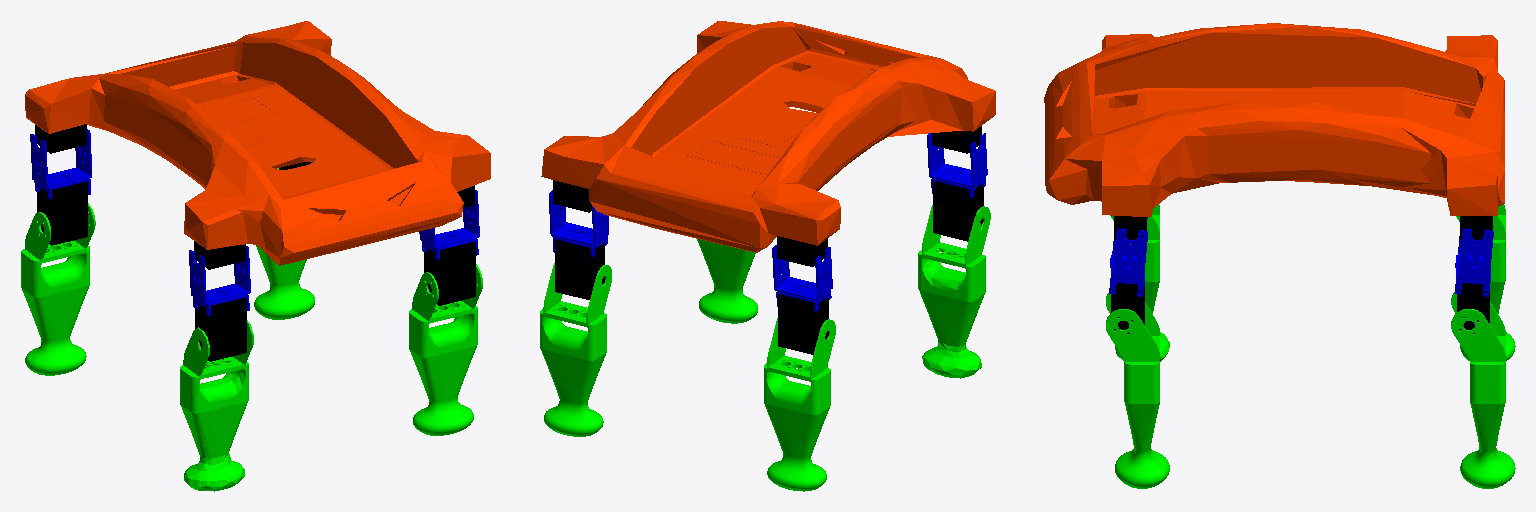
URDF robot description (midnight):
<robot name = "midnight">

	<link name = "torso">
		<inertial>
			<origin xyz = "0 0 0" rpy = "0 0 0"/>
			<mass value = "0.7"/>
			<inertia ixx = "0" ixy = "0" ixz = "0" iyy = "0" iyz = "0" izz = "0" />
		</inertial>
		
		<visual>
			<geometry>
				<mesh filename="Torso_meshed.stl" scale="0.005 0.005 0.005"/>
			</geometry>
			<material name = "orange">
				<color rgba = "1 0.3 0 1"/>
			</material>
		</visual>
		
		<collision>
			<origin xyz = "0.4 1 0" rpy = "0 0 0"/>
			<geometry>
				<box size = "1.25 1.6 0.38"/> 
			</geometry>
		</collision>
		
	</link>
	
	<link name = "motor_1">
	
		<inertial>
			<origin xyz = "0 0 0" rpy = "0 0 0"/>
			<mass value = "0.3"/>
			<inertia ixx = "189.354" ixy = "0" ixz = "0" iyy = "189.354" iyz = "0" izz = "368.205" />
		</inertial>
		
		<visual>
			<geometry>
				<box size = "0.16 0.115 0.225"/> #45mm x 32mm x 23mm
			</geometry>
			<material name = "black">
				<color rgba = "0 0 0 1"/>
			</material>
		</visual>
		
		<collision>
			<origin xyz = "0 0 0" rpy = "0 0 0"/>
			<geometry>
				<box size = "0.16 0.115 0.225"/>
			</geometry>
		</collision>
		
	</link>
	
	<link name = "upper_leg1">
		<inertial>
			<origin xyz = "0 0 0" rpy = "0 0 0"/>
			<mass value = "0.1"/>
			<inertia ixx = "0" ixy = "0" ixz = "0" iyy = "0" iyz = "0" izz = "0" />
		</inertial>

		<visual>
			<geometry>
				<mesh filename="Upper_Leg_mesh.stl" scale="0.005 0.005 0.005"/>  #51 mm x 40 mm
			</geometry>
			<material name = "blue">
				<color rgba = "0 0 1 1"/>
			</material>
		</visual>
		
		<collision>
			<origin xyz = "0 0 0" rpy = "0 0 0"/>
			<geometry>
				<cylinder radius = "0.2" length = "0.255"/> 
			</geometry>
		</collision>
		
	</link>
	
	<joint name = "joint11" type = "fixed">
		<parent link = "torso" />
		<child link = "motor_1" />
		<origin xyz = "-0.1 0.3 0" rpy = "0 0 0" />
	</joint>
	
	<link name = "motor1">
	
		<inertial>
			<origin xyz = "0 0 0" rpy = "0 0 0"/>
			<mass value = "0.3"/>
			<inertia ixx = "189.354" ixy = "0" ixz = "0" iyy = "189.354" iyz = "0" izz = "368.205" />
		</inertial>
		
		<visual>
			<geometry>
				<box size = "0.16 0.115 0.225"/> #45mm x 32mm x 23mm
			</geometry>
			<material name = "black">
				<color rgba = "0 0 0 1"/>
			</material>
		</visual>
		
		<collision>
			<origin xyz = "0 0 0" rpy = "0 0 0"/>
			<geometry>
				<box size = "0.16 0.115 0.225"/>
			</geometry>
		</collision>
		
	</link>
	
	<joint name = "joint12" type = "fixed">
		<parent link = "upper_leg1" />
		<child link = "motor1" />
		<origin xyz = "0 -0.06 -0.18" rpy = "0 0 0" />
	</joint>
	
	<link name = "lower_leg1">
		<inertial>
			<origin xyz = "0 0 0" rpy = "0 0 0"/>
			<mass value = "0.1"/>
			<inertia ixx = "0" ixy = "0" ixz = "0" iyy = "0" iyz = "0" izz = "0" />
		</inertial>

		<visual>
			<geometry>
				<mesh filename="Lower_Leg_mesh.stl" scale="0.005 0.005 0.005"/> #116 mm x 20 mm
			</geometry>
			<material name = "green">
				<color rgba = "0 1 0 1"/>
			</material>
		</visual>
		
		<collision>
			<origin xyz = "0 0 0" rpy = "0 0 0"/>
			<geometry>
				<cylinder radius = "0.1" length = "1"/> 
			</geometry>
		</collision>
	</link>
	
	<joint name = "joint13" type = "revolute">
		<parent link = "motor1" />
		<child link = "lower_leg1" />
		<limit upper = "1.6" lower = "-1.6"/>
		<origin xyz = "0 0.05 -0.2" rpy = "0 0 3.14" />
		<axis xyz = "1 0 0" />
	</joint>
	
	<joint name = "joint14" type = "revolute">
		<parent link = "motor_1" />
		<child link = "upper_leg1" />
		<limit upper = "1.6" lower = "-1.6"/>
		<origin xyz = "0 0.05 -0.2" rpy = "0 0 0" />
		<axis xyz = "1 0 0" />
	</joint>
	
	<link name = "motor_2">
	
		<inertial>
			<origin xyz = "0 0 0" rpy = "0 0 0"/>
			<mass value = "0.3"/>
			<inertia ixx = "189.354" ixy = "0" ixz = "0" iyy = "189.354" iyz = "0" izz = "368.205" />
		</inertial>
		
		<visual>
			<geometry>
				<box size = "0.16 0.115 0.225"/> #45mm x 32mm x 23mm
			</geometry>
			<material name = "black">
				<color rgba = "0 0 0 1"/>
			</material>
		</visual>
		
		<collision>
			<origin xyz = "0 0 0" rpy = "0 0 0"/>
			<geometry>
				<box size = "0.16 0.115 0.225"/>
			</geometry>
		</collision>
		
	</link>
	
	<link name = "upper_leg2">
		<inertial>
			<origin xyz = "0 0 0" rpy = "0 0 0"/>
			<mass value = "0.1"/>
			<inertia ixx = "0" ixy = "0" ixz = "0" iyy = "0" iyz = "0" izz = "0" />
		</inertial>

		<visual>
			<geometry>
				<mesh filename="Upper_Leg.stl" scale="0.005 0.005 0.005"/>
			</geometry>
			<material name = "blue">
				<color rgba = "0 0 1 1"/>
			</material>
		</visual>
		
		<collision>
			<origin xyz = "0 0 0" rpy = "0 0 0"/>
			<geometry>
				<cylinder radius = "0.2" length = "0.255"/> 
			</geometry>
		</collision>
	</link>
	
	<joint name = "joint21" type = "fixed">
		<parent link = "torso" />
		<child link = "motor_2" />
		<origin xyz = "0.9 0.3 0" rpy = "0 0 0" />
	</joint>
	
	<link name = "motor2">
	
		<inertial>
			<origin xyz = "0 0 0" rpy = "0 0 0"/>
			<mass value = "0.3"/>
			<inertia ixx = "189.354" ixy = "0" ixz = "0" iyy = "189.354" iyz = "0" izz = "368.205" />
		</inertial>
		
		<visual>
			<geometry>
				<box size = "0.16 0.115 0.225"/> #45mm x 32mm x 23mm
			</geometry>
			<material name = "black">
				<color rgba = "0 0 0 1"/>
			</material>
		</visual>
		
		<collision>
			<origin xyz = "0 0 0" rpy = "0 0 0"/>
			<geometry>
				<box size = "0.16 0.115 0.225"/>
			</geometry>
		</collision>
		
	</link>
	
	<joint name = "joint22" type = "fixed">
		<parent link = "upper_leg2" />
		<child link = "motor2" />
		<origin xyz = "0 -0.06 -0.18" rpy = "0 0 0" />
	</joint>
	
	<link name = "lower_leg2">
		<inertial>
			<origin xyz = "0 0 0" rpy = "0 0 0"/>
			<mass value = "0.1"/>
			<inertia ixx = "0" ixy = "0" ixz = "0" iyy = "0" iyz = "0" izz = "0" />
		</inertial>

		<visual>
			<geometry>
				<mesh filename="Lower_Leg.stl" scale="0.005 0.005 0.005"/>
			</geometry>
			<material name = "green">
				<color rgba = "0 1 0 1"/>
			</material>
		</visual>
		
		<collision>
			<origin xyz = "0 0 0" rpy = "0 0 0"/>
			<geometry>
				<cylinder radius = "0.1" length = "1"/> 
			</geometry>
		</collision>
	</link>
	
	<joint name = "joint23" type = "revolute">
		<parent link = "motor2" />
		<child link = "lower_leg2" />
		<limit upper = "1.6" lower = "-1.6"/>
		<origin xyz = "0 0.05 -0.2" rpy = "0 0 3.14" />
		<axis xyz = "1 0 0" />
	</joint>
	
	<joint name = "joint24" type = "revolute">
		<parent link = "motor_2" />
		<child link = "upper_leg2" />
		<limit upper = "1.6" lower = "-1.6"/>
		<origin xyz = "0 0.05 -0.2" rpy = "0 0 0" />
		<axis xyz = "1 0 0" />
	</joint>
	
	<link name = "motor_3">
	
		<inertial>
			<origin xyz = "0 0 0" rpy = "0 0 0"/>
			<mass value = "0.3"/>
			<inertia ixx = "189.354" ixy = "0" ixz = "0" iyy = "189.354" iyz = "0" izz = "368.205" />
		</inertial>
		
		<visual>
			<geometry>
				<box size = "0.16 0.115 0.225"/> #45mm x 32mm x 23mm
			</geometry>
			<material name = "black">
				<color rgba = "0 0 0 1"/>
			</material>
		</visual>
		
		<collision>
			<origin xyz = "0 0 0" rpy = "0 0 0"/>
			<geometry>
				<box size = "0.16 0.115 0.225"/>
			</geometry>
		</collision>
		
	</link>
	
	<link name = "upper_leg3">
		<inertial>
			<origin xyz = "0 0 0" rpy = "0 0 0"/>
			<mass value = "0.1"/>
			<inertia ixx = "0" ixy = "0" ixz = "0" iyy = "0" iyz = "0" izz = "0" />
		</inertial>

		<visual>
			<geometry>
				<mesh filename="Upper_Leg.stl" scale="0.005 0.005 0.005"/>
			</geometry>
			<material name = "blue">
				<color rgba = "0 0 1 1"/>
			</material>
		</visual>
		
		<collision>
			<origin xyz = "0 0 0" rpy = "0 0 0"/>
			<geometry>
				<cylinder radius = "0.2" length = "0.255"/> 
			</geometry>
		</collision>
	</link>
	
	<joint name = "joint31" type = "fixed">
		<parent link = "torso" />
		<child link = "motor_3" />
		<origin xyz = "-0.1 1.5 0" rpy = "0 0 0" />
	</joint>
	
	<link name = "motor3">
	
		<inertial>
			<origin xyz = "0 0 0" rpy = "0 0 0"/>
			<mass value = "0.3"/>
			<inertia ixx = "189.354" ixy = "0" ixz = "0" iyy = "189.354" iyz = "0" izz = "368.205" />
		</inertial>
		
		<visual>
			<geometry>
				<box size = "0.16 0.115 0.225"/> #45mm x 32mm x 23mm
			</geometry>
			<material name = "black">
				<color rgba = "0 0 0 1"/>
			</material>
		</visual>
		
		<collision>
			<origin xyz = "0 0 0" rpy = "0 0 0"/>
			<geometry>
				<box size = "0.16 0.115 0.225"/>
			</geometry>
		</collision>
		
	</link>
	
	<joint name = "joint32" type = "fixed">
		<parent link = "upper_leg3" />
		<child link = "motor3" />
		<origin xyz = "0 -0.06 -0.18" rpy = "0 0 0" />
	</joint>
	
	<link name = "lower_leg3">
		<inertial>
			<origin xyz = "0 0 0" rpy = "0 0 0"/>
			<mass value = "0.1"/>
			<inertia ixx = "0" ixy = "0" ixz = "0" iyy = "0" iyz = "0" izz = "0" />
		</inertial>

		<visual>
			<geometry>
				<mesh filename="Lower_Leg.stl" scale="0.005 0.005 0.005"/>
			</geometry>
			<material name = "green">
				<color rgba = "0 1 0 1"/>
			</material>
		</visual>
		
		<collision>
			<origin xyz = "0 0 0" rpy = "0 0 0"/>
			<geometry>
				<cylinder radius = "0.1" length = "1"/> 
			</geometry>
		</collision>
	</link>
	
	<joint name = "joint33" type = "revolute">
		<parent link = "motor3" />
		<child link = "lower_leg3" />
		<limit upper = "1.6" lower = "-1.6"/>
		<origin xyz = "0 0.05 -0.2" rpy = "0 0 3.14" />
		<axis xyz = "1 0 0" />
	</joint>
	
	<joint name = "joint34" type = "revolute">
		<parent link = "motor_3" />
		<child link = "upper_leg3" />
		<limit upper = "1.6" lower = "-1.6"/>
		<origin xyz = "0 0.05 -0.2" rpy = "0 0 0" />
		<axis xyz = "1 0 0" />
	</joint>
	
	<link name = "motor_4">
	
		<inertial>
			<origin xyz = "0 0 0" rpy = "0 0 0"/>
			<mass value = "0.3"/>
			<inertia ixx = "189.354" ixy = "0" ixz = "0" iyy = "189.354" iyz = "0" izz = "368.205" />
		</inertial>
		
		<visual>
			<geometry>
				<box size = "0.16 0.115 0.225"/> #45mm x 32mm x 23mm
			</geometry>
			<material name = "black">
				<color rgba = "0 0 0 1"/>
			</material>
		</visual>
		
		<collision>
			<origin xyz = "0 0 0" rpy = "0 0 0"/>
			<geometry>
				<box size = "0.16 0.115 0.225"/>
			</geometry>
		</collision>
		
	</link>
	
	<link name = "upper_leg4">
		<inertial>
			<origin xyz = "0 0 0" rpy = "0 0 0"/>
			<mass value = "0.1"/>
			<inertia ixx = "0" ixy = "0" ixz = "0" iyy = "0" iyz = "0" izz = "0" />
		</inertial>

		<visual>
			<geometry>
				<mesh filename="Upper_Leg.stl" scale="0.005 0.005 0.005"/>
			</geometry>
			<material name = "blue">
				<color rgba = "0 0 1 1"/>
			</material>
		</visual>
		
		<collision>
			<origin xyz = "0 0 0" rpy = "0 0 0"/>
			<geometry>
				<cylinder radius = "0.2" length = "0.255"/> 
			</geometry>
		</collision>
	</link>
	
	<joint name = "joint41" type = "fixed">
		<parent link = "torso" />
		<child link = "motor_4" />
		<origin xyz = "0.9 1.5 0" rpy = "0 0 0" />
	</joint>
	
	<link name = "motor4">
	
		<inertial>
			<origin xyz = "0 0 0" rpy = "0 0 0"/>
			<mass value = "0.3"/>
			<inertia ixx = "189.354" ixy = "0" ixz = "0" iyy = "189.354" iyz = "0" izz = "368.205" />
		</inertial>
		
		<visual>
			<geometry>
				<box size = "0.16 0.115 0.225"/> #45mm x 32mm x 23mm
			</geometry>
			<material name = "black">
				<color rgba = "0 0 0 1"/>
			</material>
		</visual>
		
		<collision>
			<origin xyz = "0 0 0" rpy = "0 0 0"/>
			<geometry>
				<box size = "0.16 0.115 0.225"/>
			</geometry>
		</collision>
		
	</link>
	
	<joint name = "joint42" type = "fixed">
		<parent link = "upper_leg4" />
		<child link = "motor4" />
		<origin xyz = "0 -0.06 -0.18" rpy = "0 0 0" />
	</joint>
	
	<link name = "lower_leg4">
		<inertial>
			<origin xyz = "0 0 0" rpy = "0 0 0"/>
			<mass value = "0.1"/>
			<inertia ixx = "0" ixy = "0" ixz = "0" iyy = "0" iyz = "0" izz = "0" />
		</inertial>

		<visual>
			<geometry>
				<mesh filename="Lower_Leg.stl" scale="0.005 0.005 0.005"/>
			</geometry>
			<material name = "green">
				<color rgba = "0 1 0 1"/>
			</material>
		</visual>
		
		<collision>
			<origin xyz = "0 0 0" rpy = "0 0 0"/>
			<geometry>
				<cylinder radius = "0.1" length = "1"/> 
			</geometry>
		</collision>
	</link>
	
	<joint name = "joint43" type = "revolute">
		<parent link = "motor4" />
		<child link = "lower_leg4" />
		<limit upper = "1.6" lower = "-1.6"/>
		<origin xyz = "0 0.05 -0.2" rpy = "0 0 3.14" />
		<axis xyz = "1 0 0" />
	</joint>
	
	<joint name = "joint44" type = "revolute">
		<parent link = "motor_4" />
		<child link = "upper_leg4" />
		<limit upper = "1.6" lower = "-1.6"/>
		<origin xyz = "0 0.05 -0.2" rpy = "0 0 0" />
		<axis xyz = "1 0 0" />
	</joint>
	
</robot>

--- What the picture shows (computed from the rendered views, not written in the file) ---
3 views of the same robot in one strip: view 1: azimuth 30°, elevation 25°; view 2: azimuth 150°, elevation 25°; view 3: azimuth 270°, elevation 25° (orthographic).
Model midnight with 17 links and 16 joints (8 revolute, 8 fixed), rooted at torso, posed all joints at 0.
Visible links, largest first — view 1: torso, lower_leg3, lower_leg2, lower_leg1, lower_leg4, motor2, motor1, motor3, upper_leg3, upper_leg1, upper_leg2, motor_3 (+1 smaller); view 2: torso, lower_leg1, lower_leg4, lower_leg3, lower_leg2, motor3, motor1, motor4, upper_leg3, upper_leg1, upper_leg4, motor_3 (+2 smaller); view 3: torso, lower_leg4, lower_leg2, upper_leg4, upper_leg2, lower_leg3, lower_leg1, motor2, motor4, motor_4, motor_2.
Boxes of the visible links, x1,y1,x2,y2 form: torso: (25,21,490,265); lower_leg3: (21,203,95,375); lower_leg2: (409,264,482,435); lower_leg1: (180,320,253,491); lower_leg4: (254,168,314,319); motor2: (424,242,475,305); motor1: (195,298,246,361); motor3: (37,182,87,245); upper_leg3: (30,129,91,199); upper_leg1: (189,246,250,315); upper_leg2: (419,190,479,259); motor_3: (35,124,86,153); torso: (541,21,995,252); lower_leg1: (918,205,990,378); lower_leg4: (540,263,611,436); lower_leg3: (764,318,835,491); lower_leg2: (697,239,757,323); motor3: (778,294,828,354); motor1: (933,181,983,241); motor4: (555,240,604,299); upper_leg3: (772,245,832,311); upper_leg1: (927,133,987,197); upper_leg4: (549,190,608,256); motor_3: (777,236,827,266); torso: (1044,23,1504,216); lower_leg4: (1451,292,1515,488); lower_leg2: (1106,293,1169,488); upper_leg4: (1455,228,1493,296); upper_leg2: (1109,217,1147,296); lower_leg3: (1456,204,1515,360); lower_leg1: (1111,204,1169,361); motor2: (1111,283,1144,333); motor4: (1457,283,1489,333); motor_4: (1460,216,1492,239); motor_2: (1114,216,1146,239).
Size in the robot's own frame: 1.25 by 1.64 by 1.36 metres.
9 mesh visuals loaded from 5 distinct referenced files (5 binary STL).